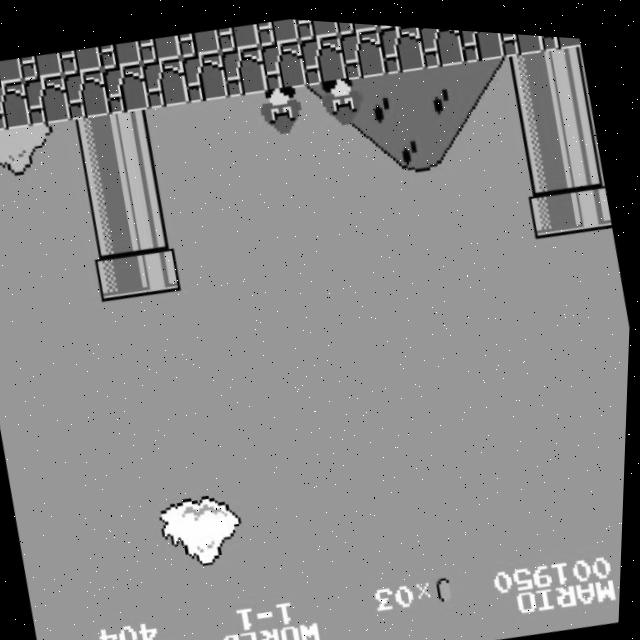11- little_mario: (347, 75, 400, 135)
14- pipe: (510, 86, 562, 143), (502, 41, 554, 98), (69, 110, 121, 167), (117, 149, 168, 206), (109, 104, 160, 161), (78, 155, 129, 212), (519, 132, 570, 188), (125, 195, 176, 251), (86, 201, 137, 257), (559, 127, 607, 181), (551, 81, 598, 136), (543, 36, 590, 91)
15- pipe_head: (133, 239, 185, 296), (94, 246, 146, 302), (527, 177, 578, 234), (567, 172, 615, 227)
17- undestructible_block: (297, 27, 349, 84), (100, 58, 152, 115), (61, 65, 113, 122), (336, 21, 388, 77), (21, 71, 73, 127), (179, 46, 230, 103), (140, 52, 191, 109), (258, 34, 309, 90), (219, 40, 270, 96), (376, 20, 427, 71), (415, 22, 466, 64), (0, 78, 34, 134), (454, 24, 505, 58), (136, 30, 182, 64), (215, 18, 261, 51), (176, 24, 222, 57), (97, 37, 143, 70), (57, 43, 103, 76), (18, 49, 64, 82), (254, 13, 300, 45), (493, 26, 544, 53), (293, 15, 339, 38), (535, 28, 581, 45), (0, 56, 24, 88), (333, 17, 378, 32)
8- goomba: (318, 67, 372, 127), (256, 77, 310, 137)
